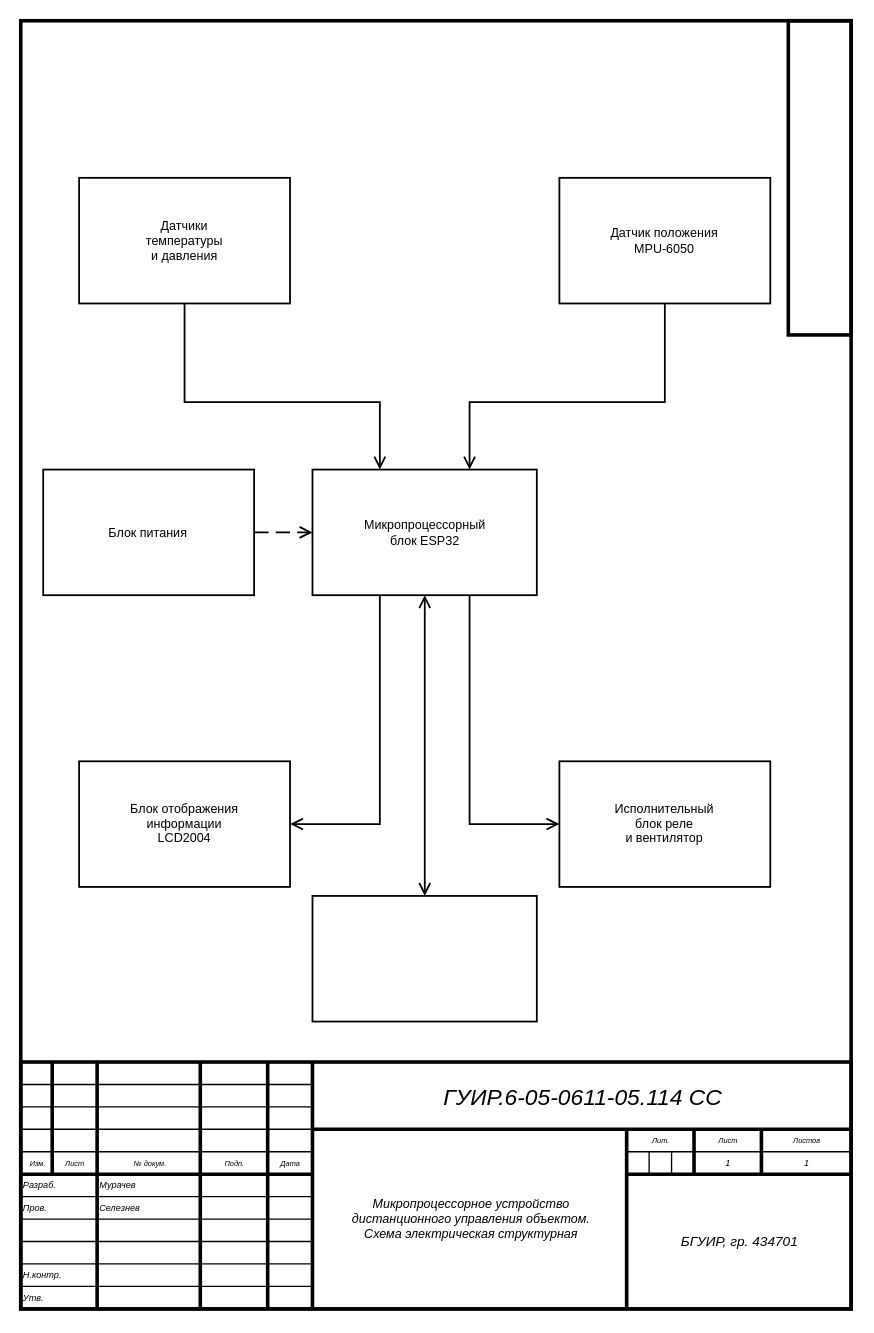
Some shapes in this 874 by 1333 pixel diagram are drawn without their labels. The shapes that lost their labels are listed below. From the top down, each one's centre as x and y in pixels, then its label:
At point 819,177: "ГУИР.6-05-0611-05.113 Э1".
At point 424,958: "Пульт управления ESP32, OLED, nRF24L01+".
